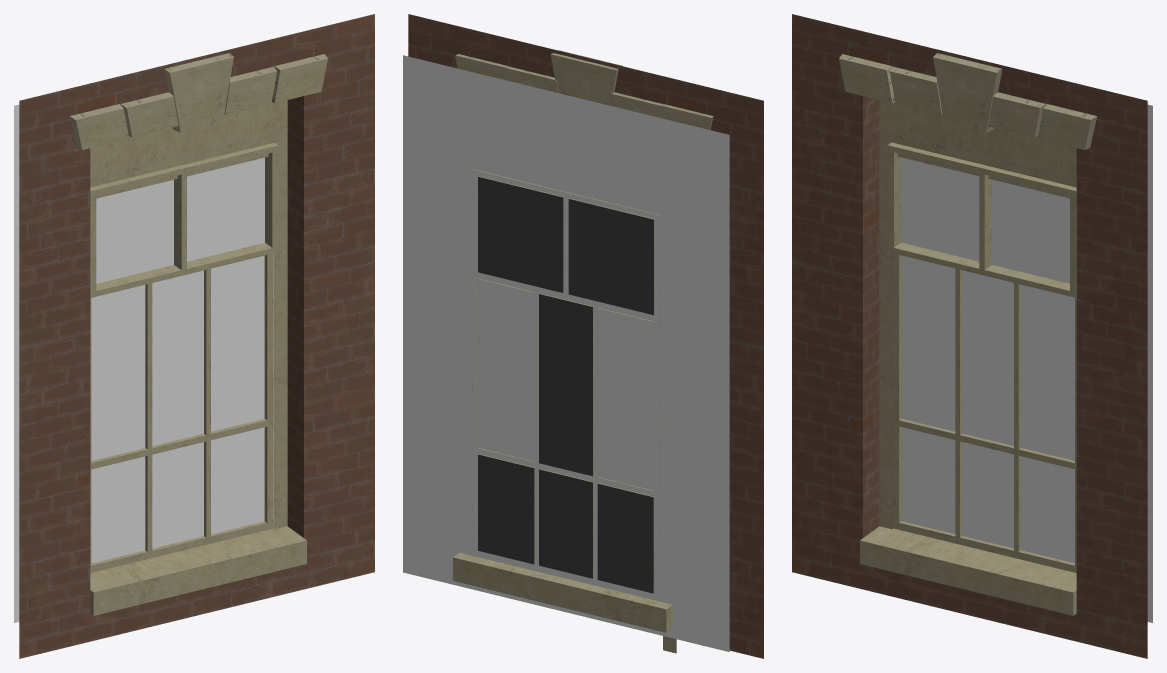
Rendered from UpperLayer_Window_Trim.fbx.
3 views of the same model, side by side, from view 1: azimuth 30°, elevation 25°; view 2: azimuth 150°, elevation 25°; view 3: azimuth 330°, elevation 25° (orthographic).
Parts seen in each view (by area): view 1: UpperLayer_Window_Trim; view 2: UpperLayer_Window_Trim; view 3: UpperLayer_Window_Trim.
Boxes of the visible parts, x1=… form: UpperLayer_Window_Trim: x1=14, y1=14, x2=374, y2=658; UpperLayer_Window_Trim: x1=403, y1=14, x2=763, y2=658; UpperLayer_Window_Trim: x1=792, y1=14, x2=1152, y2=658.
Size of the model in its own units: 200 by 300 by 30.4.
